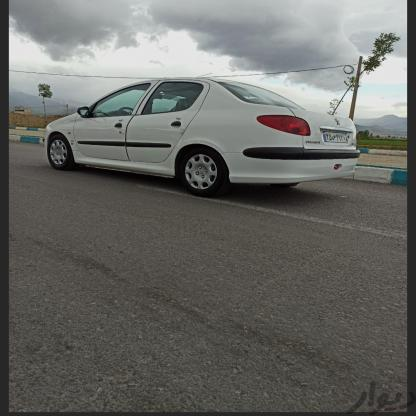Car: (27, 76, 366, 196)
